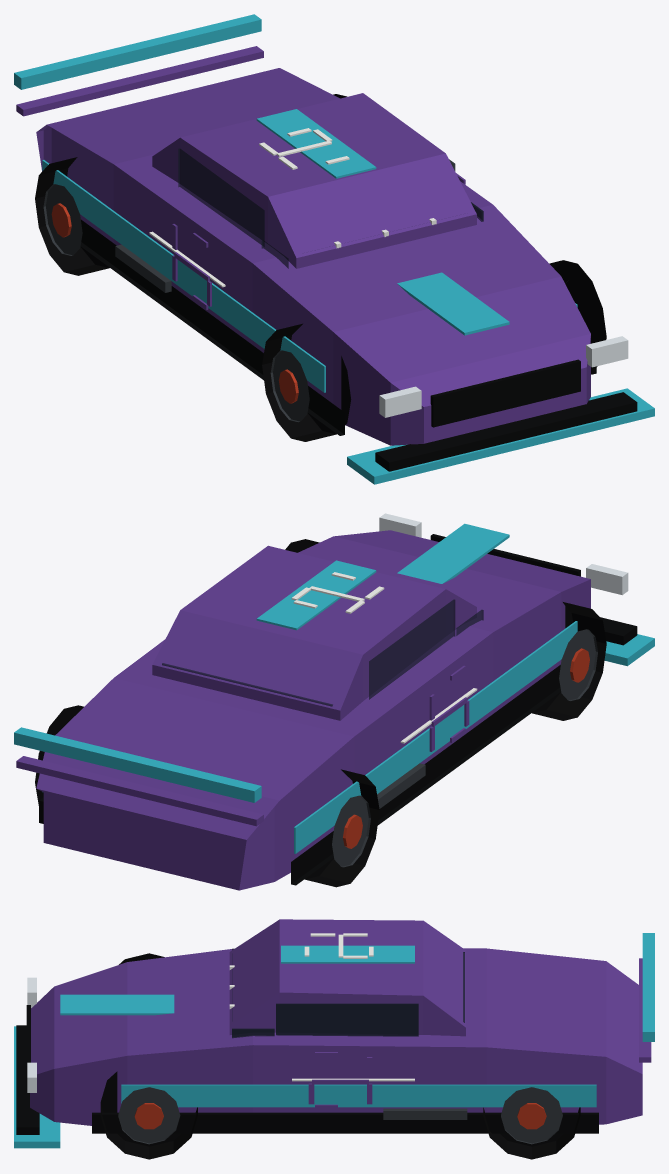
Rendered from stock_car_06.obj.
3 views of the same model, one above another, from view 1: azimuth 30°, elevation 25°; view 2: azimuth 150°, elevation 25°; view 3: azimuth 270°, elevation 25° (orthographic). The views are drawn at different scales.
Parts seen in each view (by area): view 1: StockCar_06; view 2: StockCar_06; view 3: StockCar_06.
Part boxes in pixels (left/top/right/bottom): StockCar_06: left=14, top=14, right=654, bottom=484; StockCar_06: left=14, top=513, right=654, bottom=890; StockCar_06: left=14, top=919, right=654, bottom=1159.
Size of the model in its own units: 2.35 by 1.34 by 5.26.
